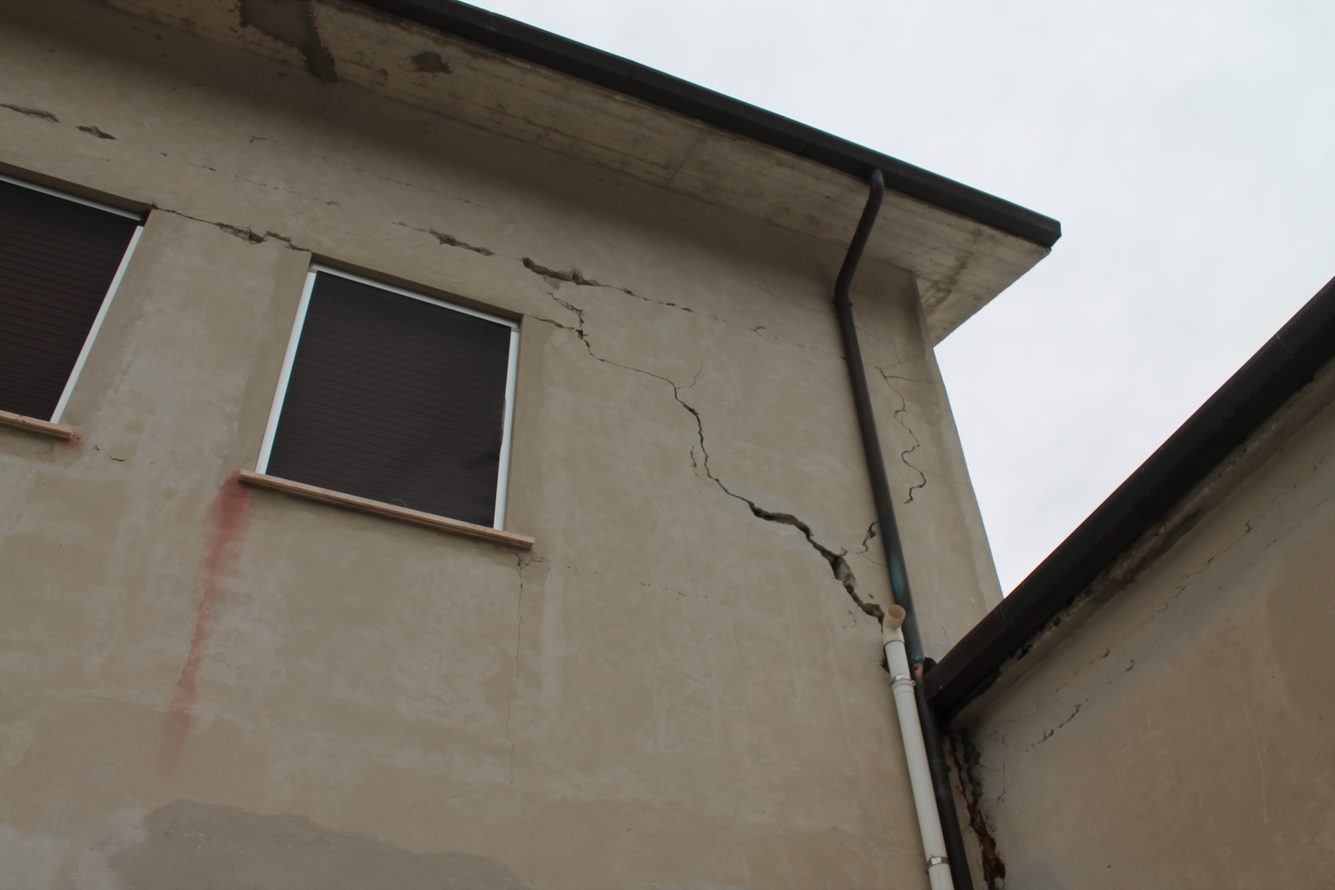Crack: (0, 69, 935, 400), (970, 432, 1333, 811), (522, 282, 907, 625), (483, 135, 901, 366), (518, 523, 882, 673), (836, 326, 960, 652), (424, 543, 544, 828), (150, 186, 318, 271), (946, 712, 1016, 889), (66, 421, 186, 488)
